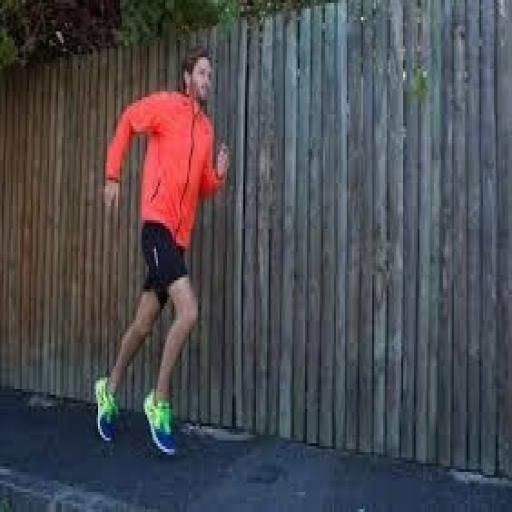running: (93, 46, 234, 460)
